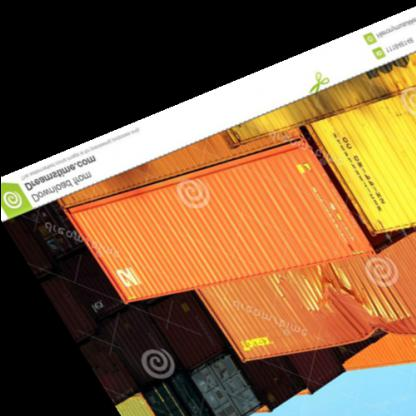Damage: (316, 274, 386, 338)
